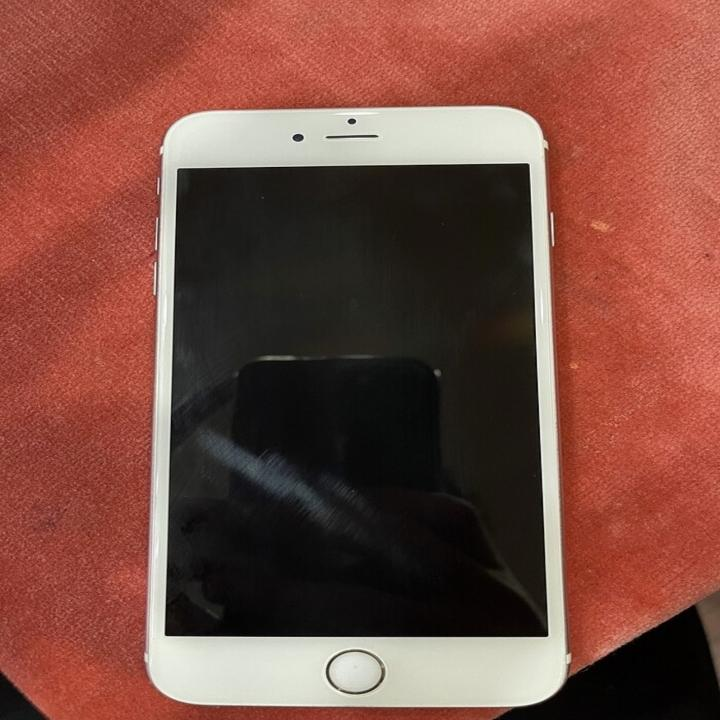phone good: (141, 92, 574, 712)
